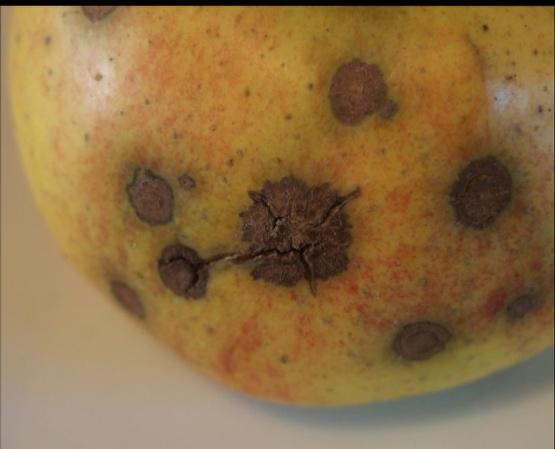rotten apple: (0, 5, 555, 407)
